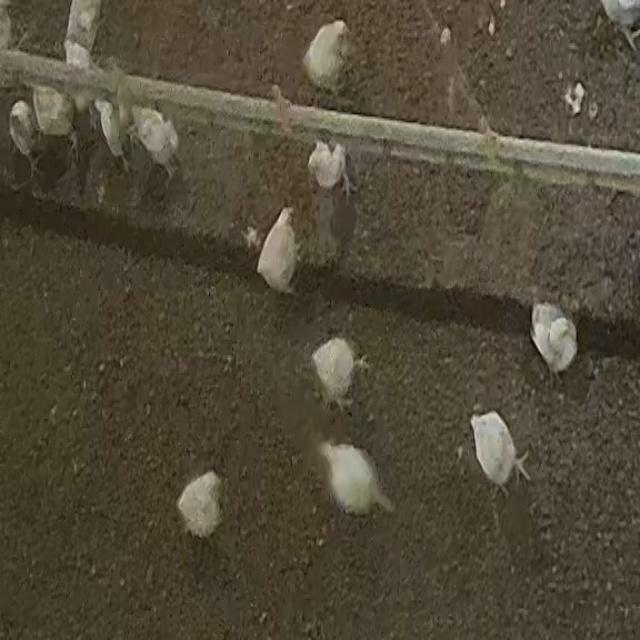chicken: (315, 439, 397, 517), (467, 407, 531, 495), (311, 336, 370, 414), (130, 105, 180, 183), (256, 206, 299, 296), (530, 302, 579, 380), (177, 470, 224, 540), (306, 18, 348, 92), (92, 98, 131, 174), (301, 141, 355, 194), (31, 83, 76, 143), (8, 100, 42, 178), (64, 2, 105, 62)
